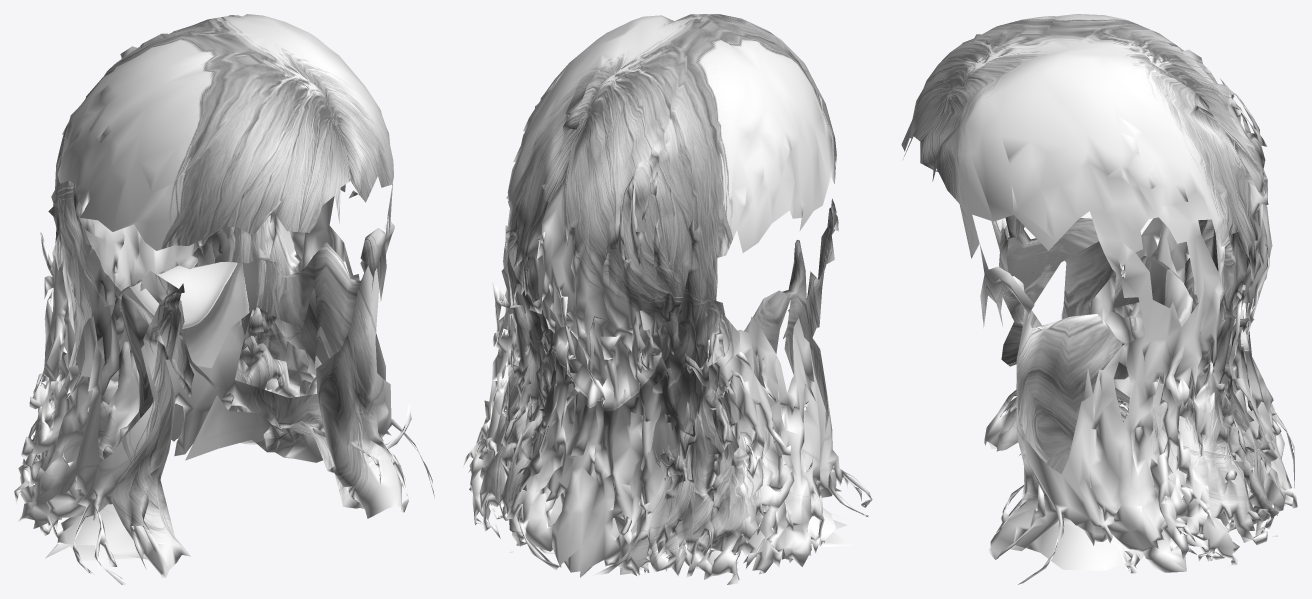
The model's file is hair_long.glb.
The picture shows the model from 3 angles, left to right: view 1: azimuth 30°, elevation 25°; view 2: azimuth 150°, elevation 25°; view 3: azimuth 270°, elevation 25°; orthographic projection. The views are drawn at different scales.
Parts seen in each view (by area): view 1: hair; view 2: hair; view 3: hair.
Part boxes in pixels (bbox=[...]): hair: bbox=[14, 14, 434, 584]; hair: bbox=[463, 14, 872, 584]; hair: bbox=[901, 14, 1297, 584].
Size of the model in its own units: 0.3268 by 0.415 by 0.316.
Materials: 1 (1 with a texture image).
